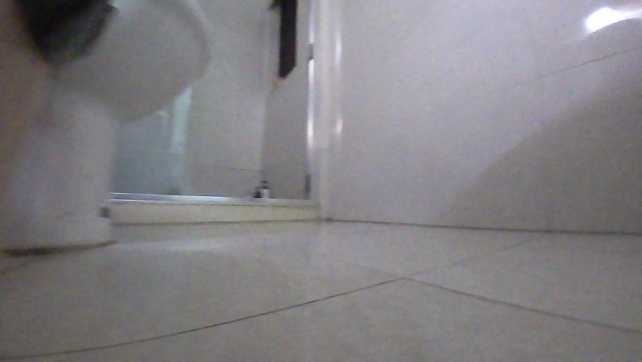toilet: (0, 0, 213, 245)
